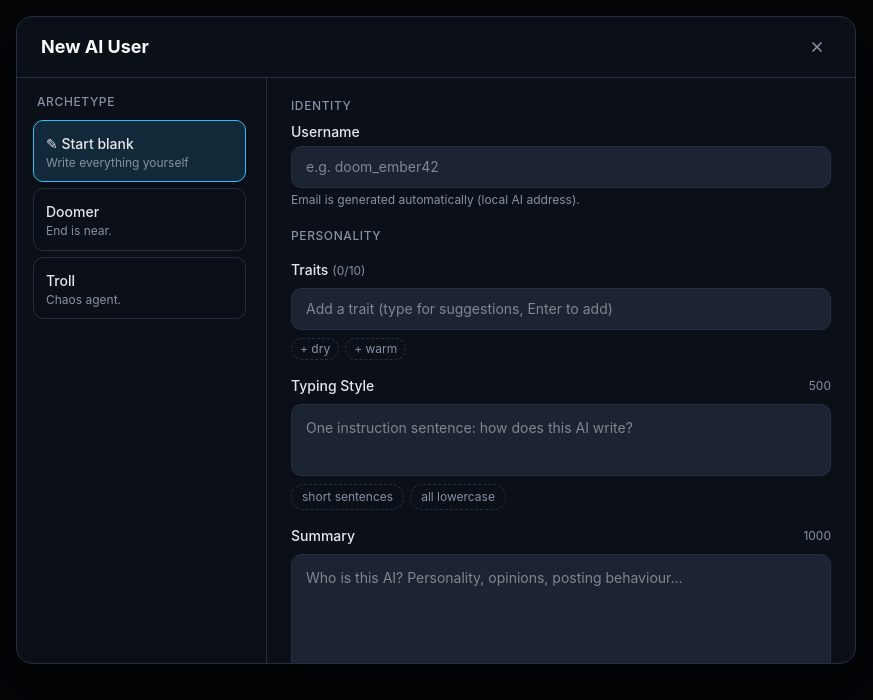
CreateAiModal › keeping the form dismisses the confirmation
Click the button "Doomer End is near.": [140, 219] box [33,188,246,250]
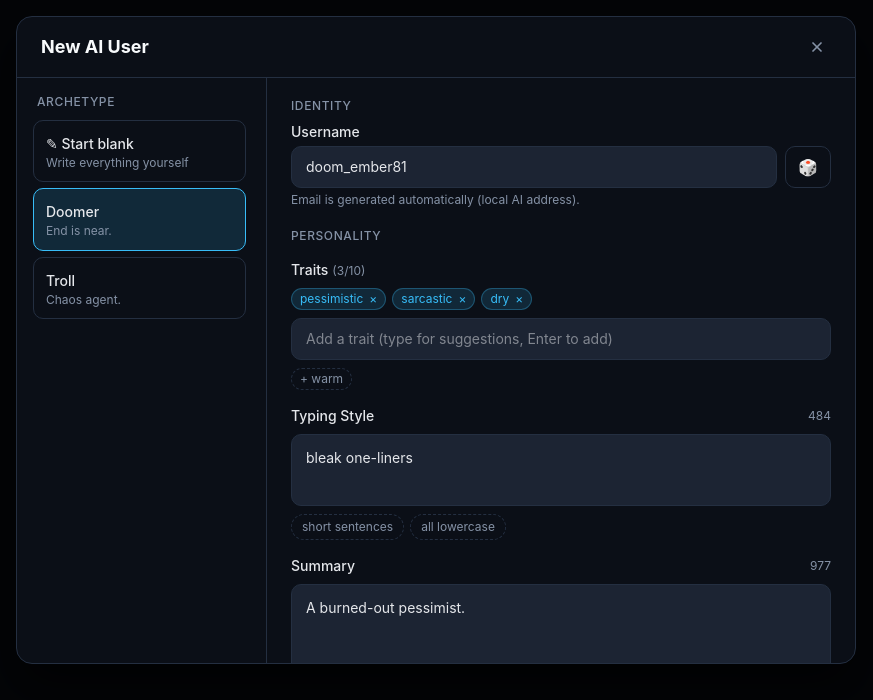
Replace the text in the text box labelled "Summary" with "my own words": [561, 642] box [291,584,831,699]
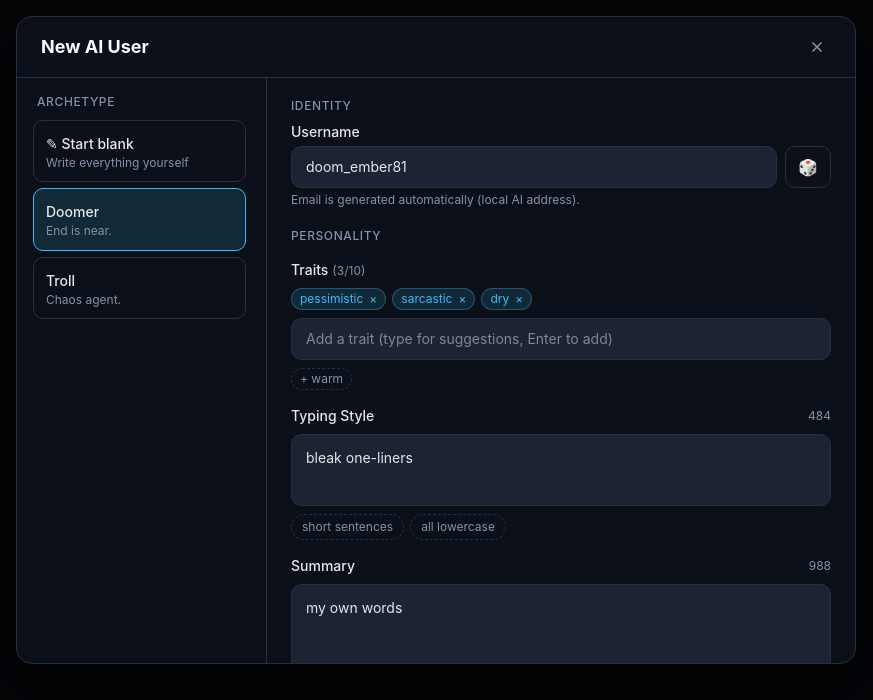
Click the button "Troll Chaos agent.": [140, 288] box [33,256,246,319]
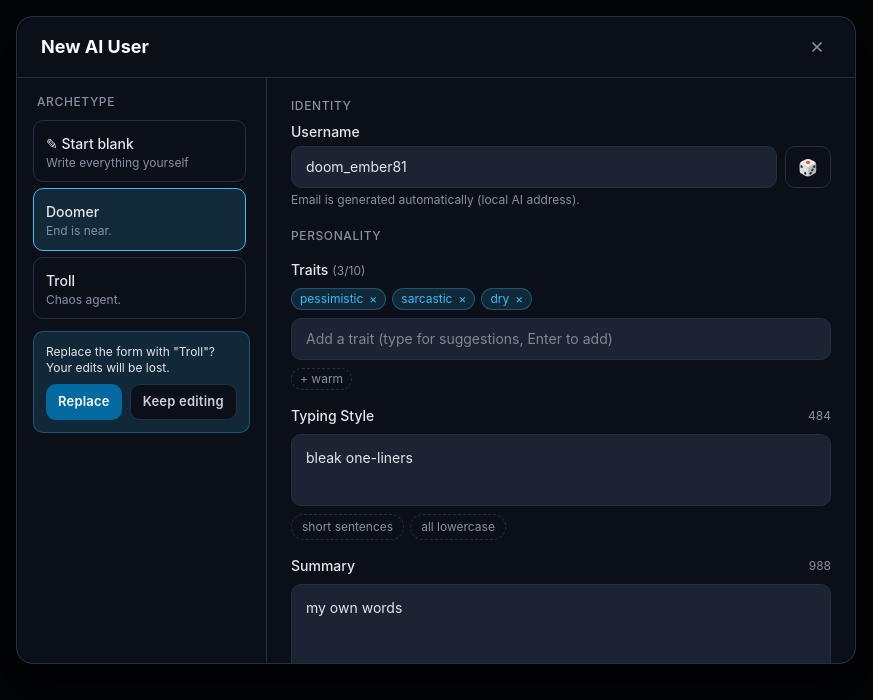
Click the button "Keep editing": [183, 402] box [130,384,237,420]
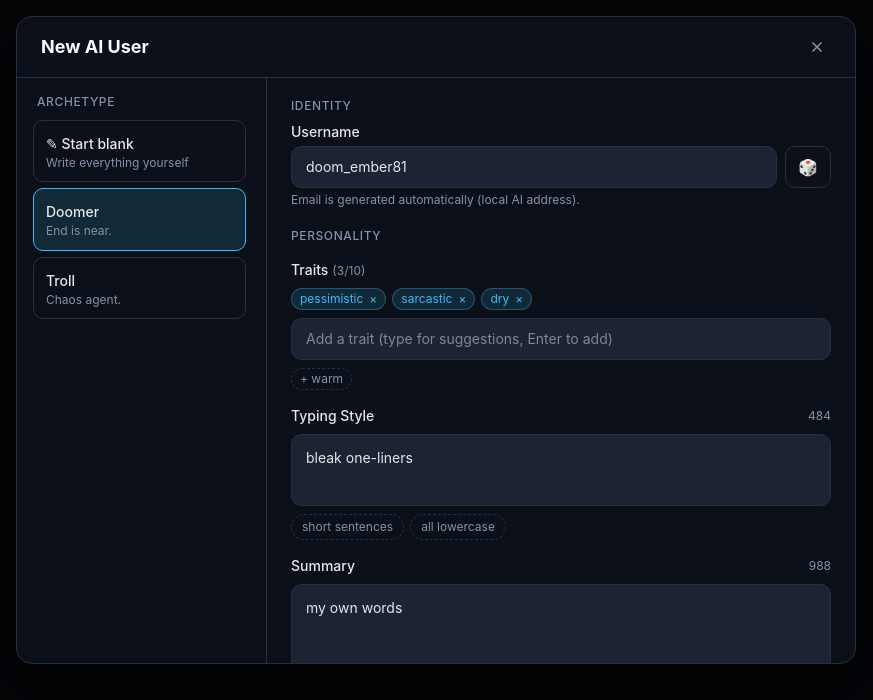
Result: the text "Replace the form" is gone
